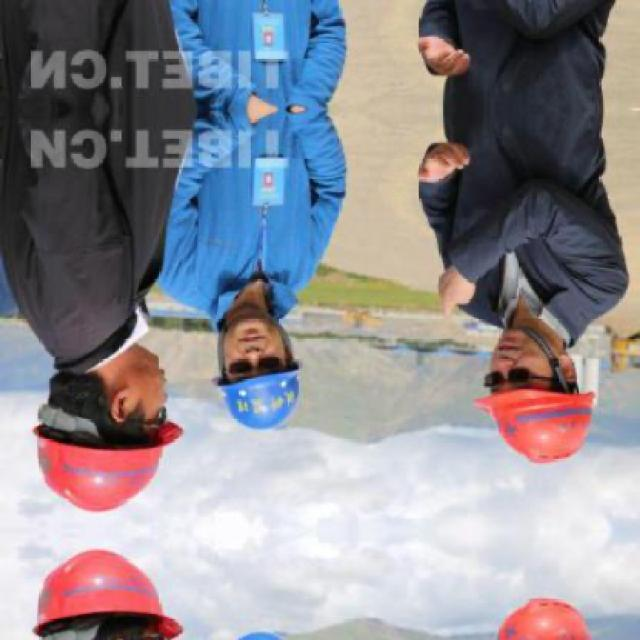con casco: (446, 279, 616, 493), (190, 297, 362, 443), (33, 365, 207, 493)
